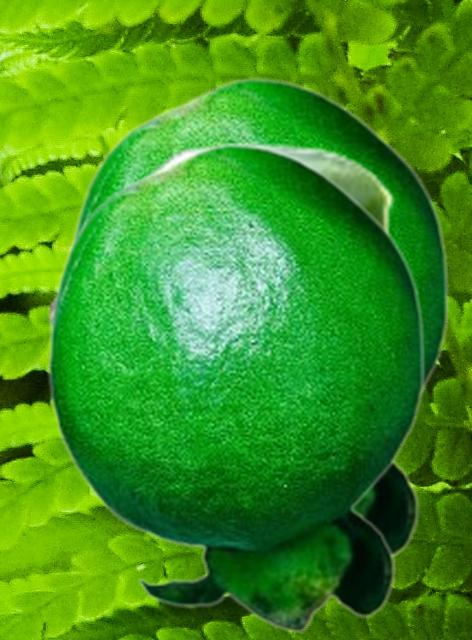guava: (45, 143, 425, 632), (64, 77, 449, 558), (47, 141, 394, 339)
